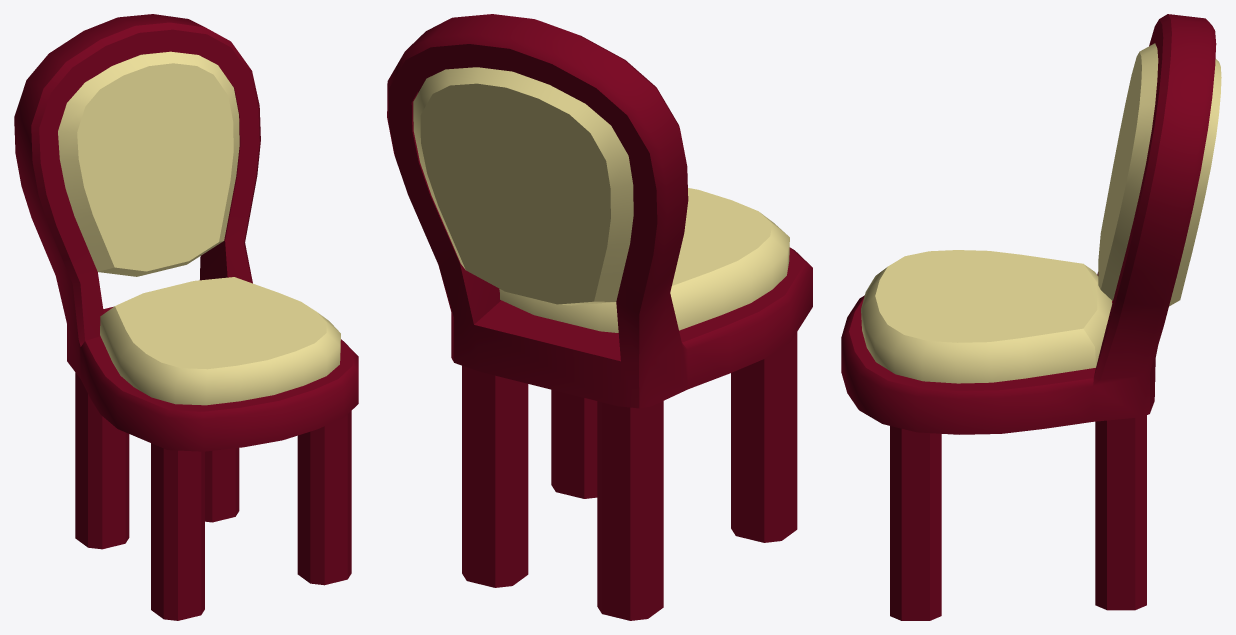
Rendered from Stuhl.FBX.
The picture shows the model from 3 angles, left to right: view 1: azimuth 30°, elevation 25°; view 2: azimuth 150°, elevation 25°; view 3: azimuth 270°, elevation 25°; orthographic projection. The views are drawn at different scales.
Parts seen in each view (by area): view 1: Stuhl; view 2: Stuhl; view 3: Stuhl.
Boxes of the visible parts, box(x1,y1,x2,y2) form: Stuhl: box(14, 14, 358, 620); Stuhl: box(387, 14, 812, 620); Stuhl: box(841, 14, 1221, 620).
Size of the model in its own units: 22.8 by 46.19 by 29.66.
